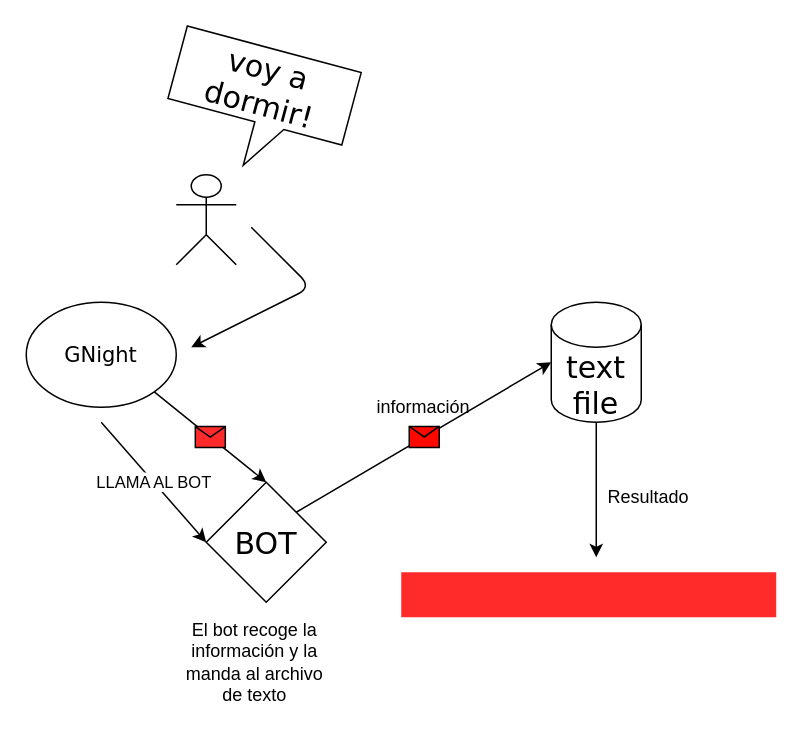
The diagram is 803 pixels wide and 732 high, and some of its shapes have lost their labels. Each missing label, with the centre of its shape:
[usuario] ha usado goodnight, con un ID de [id] : [05/06/24:16:07:35]: point (588, 594)
user: point (205, 219)
